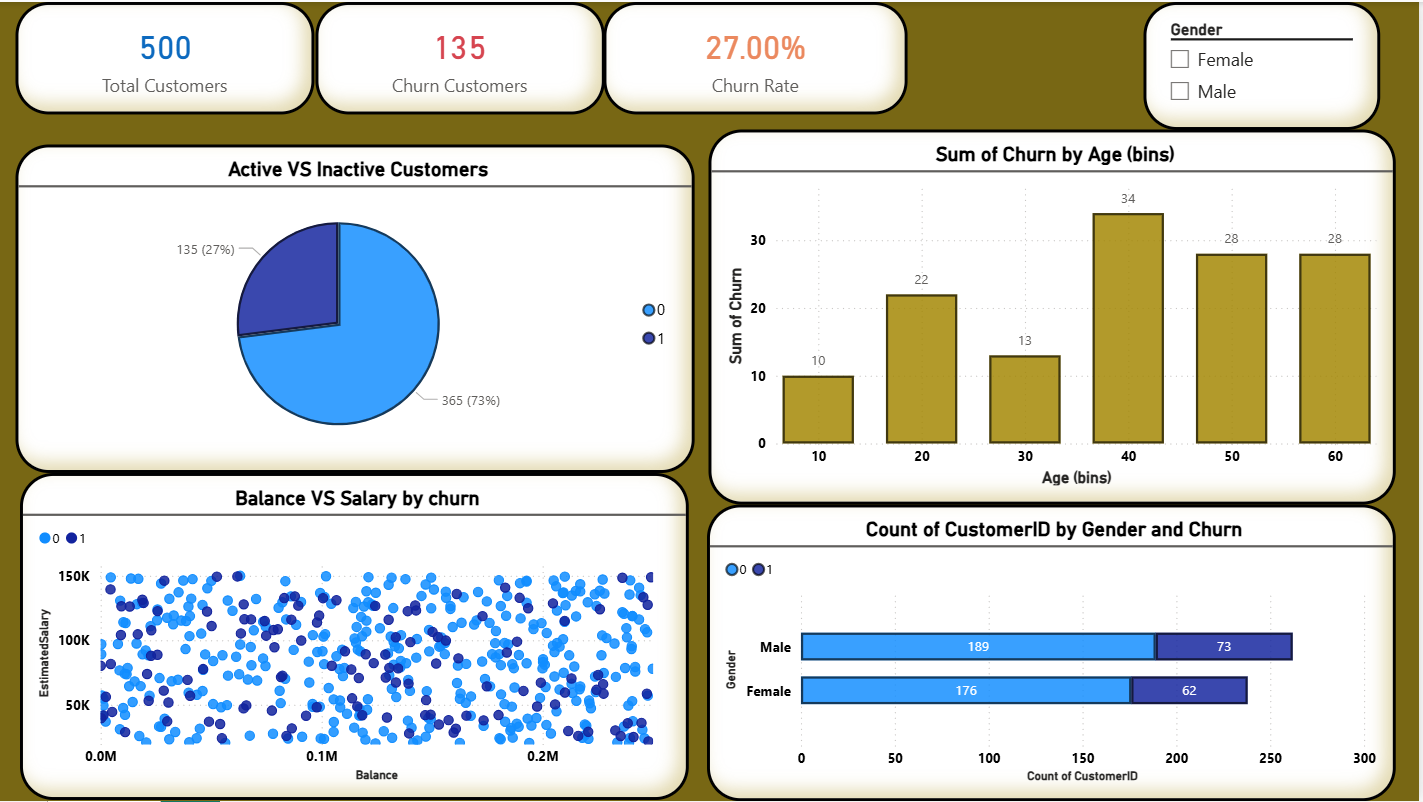

Layout of this report page (visuals, bound fields, positions):
{"tool":"powerbi","page":{"name":"Page 1","canvas":[1280,720],"ordinal":0},"visuals":[{"type":"barChart","fields":{"Series":["customer_churn_dataset.Churn"],"Category":["customer_churn_dataset.Gender"],"Y":["CountNonNull(customer_churn_dataset.CustomerID)"]},"box":[638,452.8,620.4,267.6],"z":0},{"type":"clusteredColumnChart","fields":{"Category":["customer_churn_dataset.Age (bins)"],"Y":["Sum(customer_churn_dataset.Churn)"]},"box":[639.4,114.9,619.1,337.9],"z":1000},{"type":"card","fields":{"Values":["customer_churn_dataset.Total Customers"]},"box":[15.1,0,269.5,101.5],"z":2000},{"type":"card","fields":{"Values":["customer_churn_dataset.Churn Customers"]},"box":[284.7,0,260.4,101.5],"z":3000},{"type":"card","fields":{"Values":["customer_churn_dataset.Churn Rate"]},"box":[545.1,0,274.1,101.5],"z":4000},{"type":"scatterChart","title":"Balance VS Salary by churn","fields":{"X":["customer_churn_dataset.Balance"],"Y":["customer_churn_dataset.EstimatedSalary"],"Series":["customer_churn_dataset.Churn"]},"box":[18.9,424.4,602.9,294.7],"z":5000},{"type":"pieChart","title":"Active VS Inactive Customers","fields":{"Category":["customer_churn_dataset.Churn"],"Y":["CountNonNull(customer_churn_dataset.IsActive)"]},"box":[14.9,128.4,612.3,296],"z":6000},{"type":"slicer","fields":{"Values":["customer_churn_dataset.Gender"]},"box":[1031.2,0,213.5,115.1],"z":7000}]}

Visuals, with their boxes in screenshot pixels (x1, y1, x2, y2), scaled from the page's 1280x720 canvas onto the 1423x802 screenshot:
barChart - customer_churn_dataset.Churn x customer_churn_dataset.Gender: (709, 504, 1399, 801)
clusteredColumnChart - customer_churn_dataset.Age (bins) x Sum(customer_churn_dataset.Churn): (711, 128, 1399, 504)
card - customer_churn_dataset.Total Customers: (17, 0, 316, 113)
card - customer_churn_dataset.Churn Customers: (317, 0, 606, 113)
card - customer_churn_dataset.Churn Rate: (606, 0, 911, 113)
"Balance VS Salary by churn" scatterChart: (21, 473, 691, 801)
"Active VS Inactive Customers" pieChart: (17, 143, 697, 473)
slicer - customer_churn_dataset.Gender: (1146, 0, 1384, 128)
